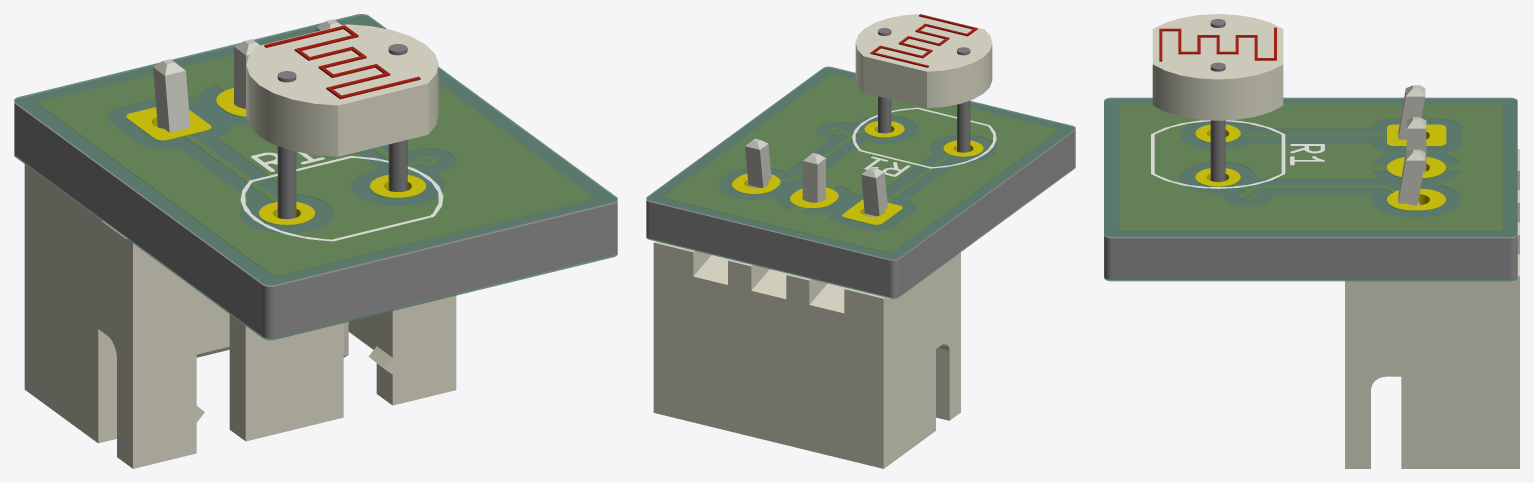
Rendered from ldr.glb.
3 views of the same model, side by side, from view 1: azimuth 30°, elevation 25°; view 2: azimuth 150°, elevation 25°; view 3: azimuth 270°, elevation 25° (orthographic). The views are drawn at different scales.
Parts seen in each view (by area): view 1: ldrPin, =>[0:1:1:7], =>[0:1:1:8], =>[0:1:1:5], R1, =>[0:1:1:6]; view 2: ldrPin, =>[0:1:1:7], =>[0:1:1:8], =>[0:1:1:5], R1, =>[0:1:1:6]; view 3: =>[0:1:1:7], =>[0:1:1:5], ldrPin, =>[0:1:1:8], R1, =>[0:1:1:6].
Part boxes in pixels (x1,y1,x2,y2): ldrPin: (24, 19, 456, 468); =>[0:1:1:7]: (14, 14, 617, 340); =>[0:1:1:8]: (14, 16, 617, 338); =>[0:1:1:5]: (39, 55, 592, 275); R1: (246, 24, 438, 219); =>[0:1:1:6]: (102, 152, 443, 241); ldrPin: (653, 138, 960, 468); =>[0:1:1:7]: (646, 66, 1075, 298); =>[0:1:1:8]: (646, 68, 1075, 297); =>[0:1:1:5]: (664, 75, 1057, 252); R1: (855, 14, 992, 152); =>[0:1:1:6]: (651, 107, 996, 298); =>[0:1:1:7]: (1104, 97, 1517, 281); =>[0:1:1:5]: (1120, 105, 1501, 231); ldrPin: (1345, 85, 1519, 468); =>[0:1:1:8]: (1104, 99, 1517, 279); R1: (1152, 14, 1283, 181); =>[0:1:1:6]: (1151, 120, 1324, 188).
Size of the model in its own units: 0.0108 by 0.0127 by 0.0137.
